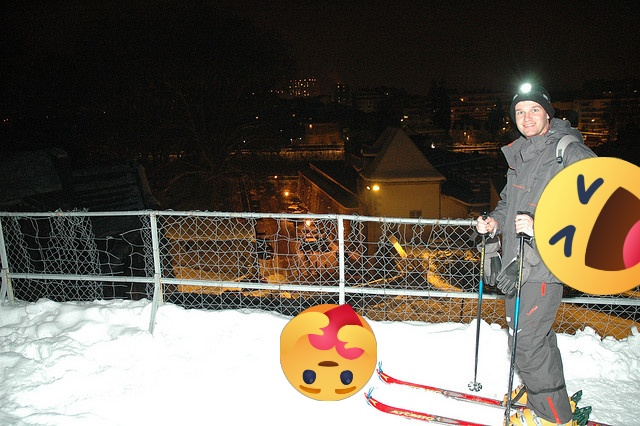care: (280, 304, 377, 401)
haha: (534, 157, 640, 295)
